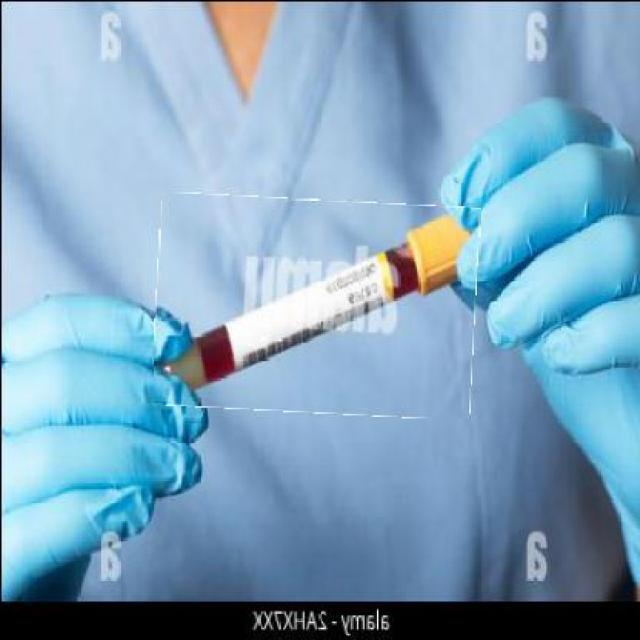Experimental-tube: (153, 194, 476, 414)
